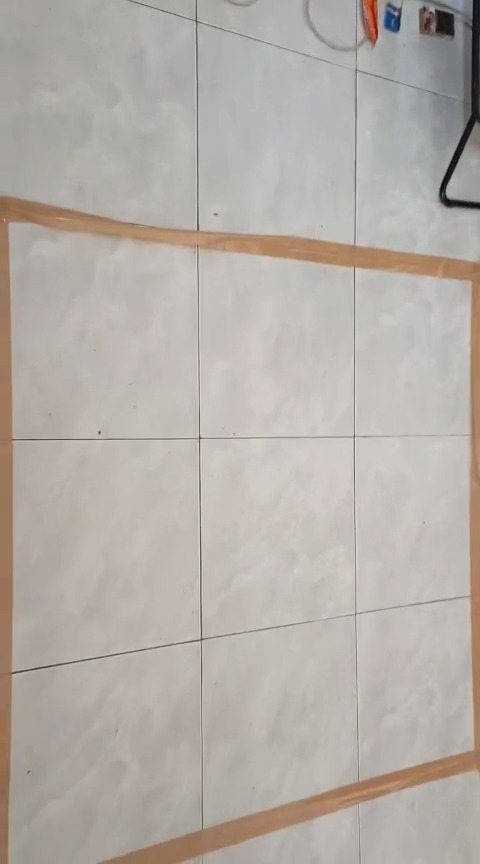floor marking: (0, 198, 479, 863)
